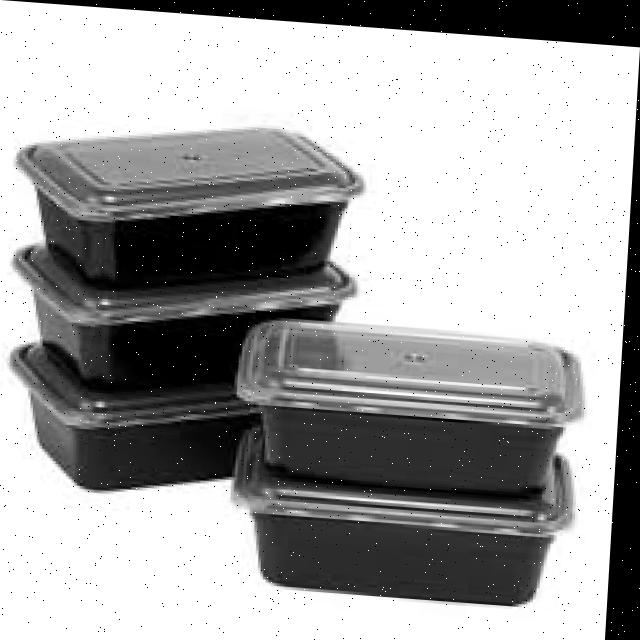disposable: (231, 303, 591, 500), (27, 106, 359, 295), (231, 445, 581, 609), (39, 247, 359, 424)
